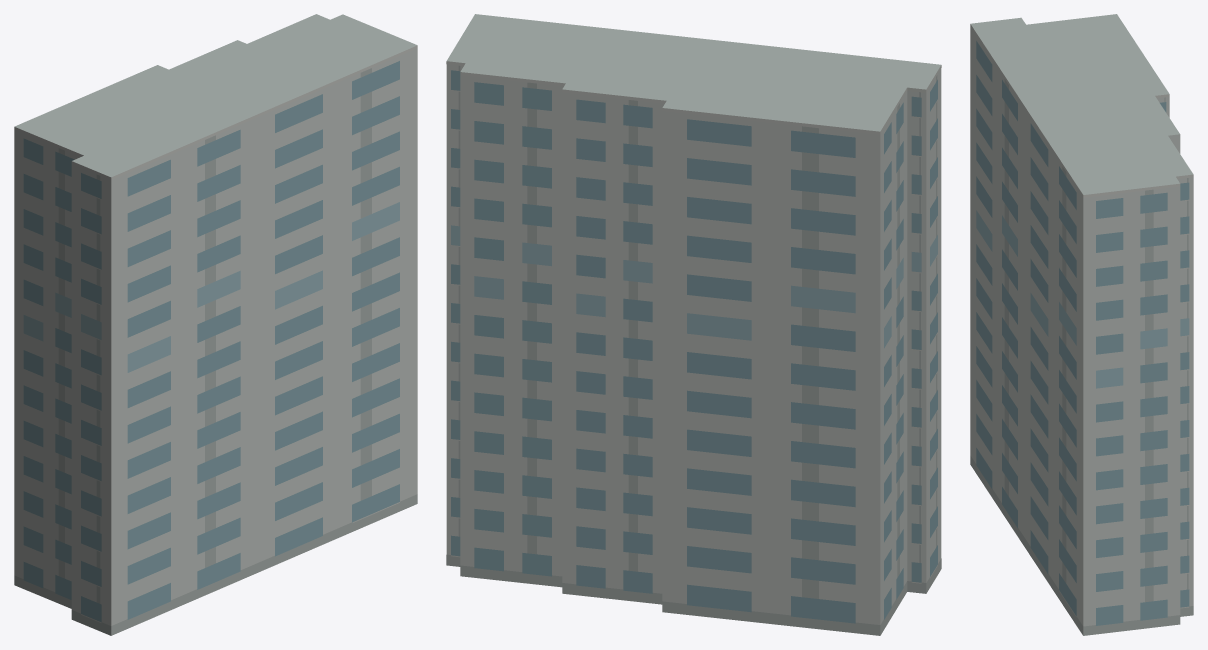
File: residential-ffbfcb2c-631f-46a5-b80e-98c610ebce71.glb
The picture shows the model from 3 angles, left to right: view 1: azimuth 30°, elevation 25°; view 2: azimuth 150°, elevation 25°; view 3: azimuth 270°, elevation 25°; orthographic projection. The views are drawn at different scales.
Visible parts, largest first — view 1: residential-ffbfcb2c-631f-46a5-b80e-98c610ebce71.tmp; view 2: residential-ffbfcb2c-631f-46a5-b80e-98c610ebce71.tmp; view 3: residential-ffbfcb2c-631f-46a5-b80e-98c610ebce71.tmp.
Part boxes in pixels (x1,y1,x2,y2): residential-ffbfcb2c-631f-46a5-b80e-98c610ebce71.tmp: (14, 14, 417, 635); residential-ffbfcb2c-631f-46a5-b80e-98c610ebce71.tmp: (446, 14, 941, 635); residential-ffbfcb2c-631f-46a5-b80e-98c610ebce71.tmp: (970, 14, 1193, 635).
Bounding box in the file's own units: 33.49 × 38 × 17.46.
